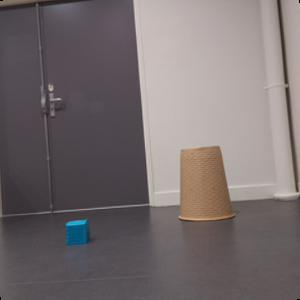medium: (175, 144, 236, 221)
small: (66, 219, 89, 245)
